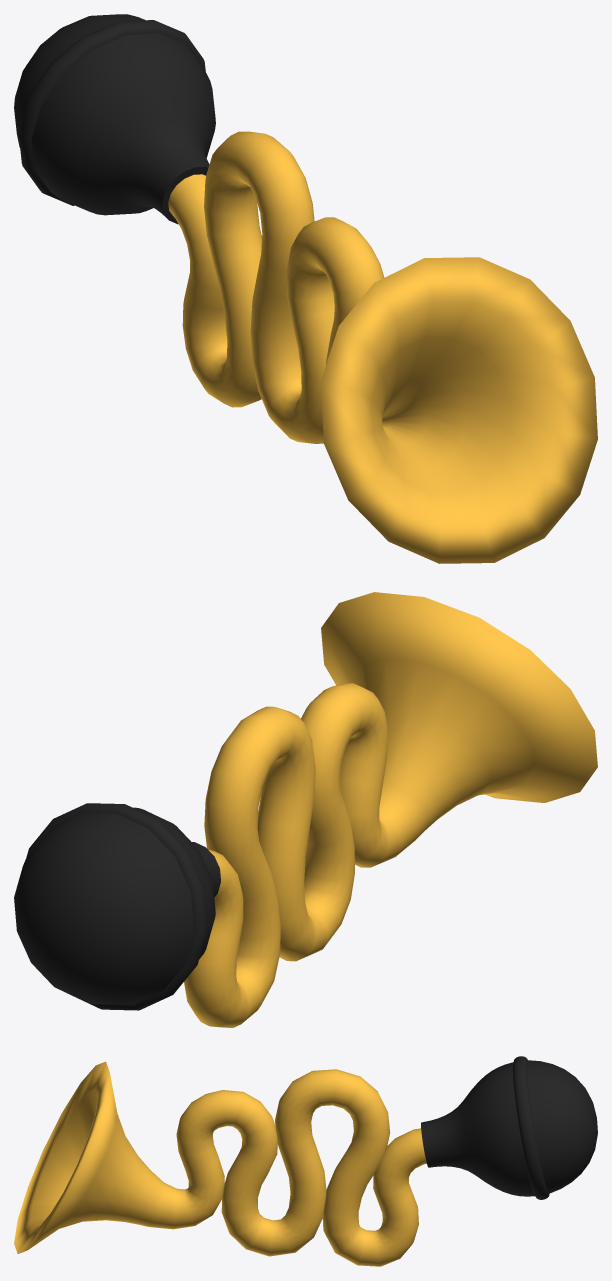
File: clown horn.FBX
3 views of the same model, one above another, from view 1: azimuth 30°, elevation 25°; view 2: azimuth 150°, elevation 25°; view 3: azimuth 270°, elevation 25° (orthographic). The views are drawn at different scales.
Visible parts, largest first — view 1: clown horn main, clown horn bulb; view 2: clown horn main, clown horn bulb; view 3: clown horn main, clown horn bulb.
Boxes of the visible parts, x1,y1,x2,y2 form: clown horn main: (168, 131, 597, 563); clown horn bulb: (14, 14, 215, 224); clown horn main: (184, 592, 597, 1027); clown horn bulb: (14, 803, 220, 1010); clown horn main: (14, 1061, 426, 1266); clown horn bulb: (421, 1056, 597, 1199).
Size of the model in its own units: 0.1577 by 0.434 by 0.1657.
